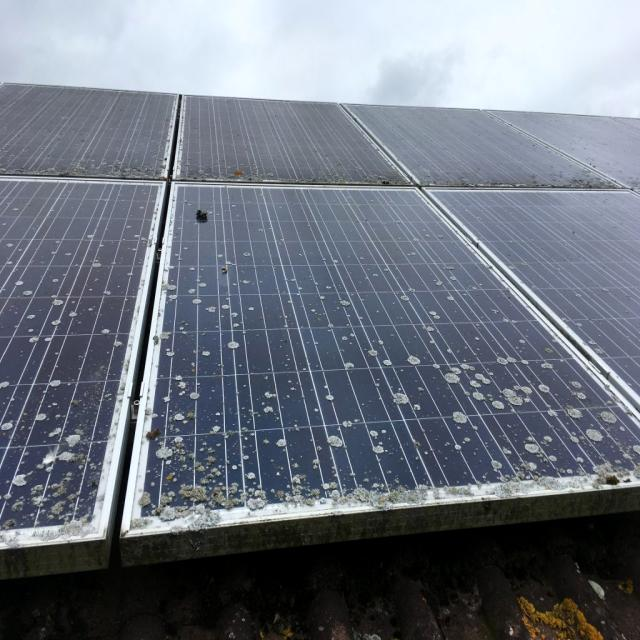bird: (440, 334, 556, 424), (150, 425, 264, 507), (25, 388, 94, 509), (174, 260, 249, 362), (562, 358, 622, 468), (318, 371, 388, 459), (5, 270, 86, 346), (477, 434, 548, 482), (313, 272, 352, 330), (181, 188, 223, 230), (404, 334, 432, 386)
